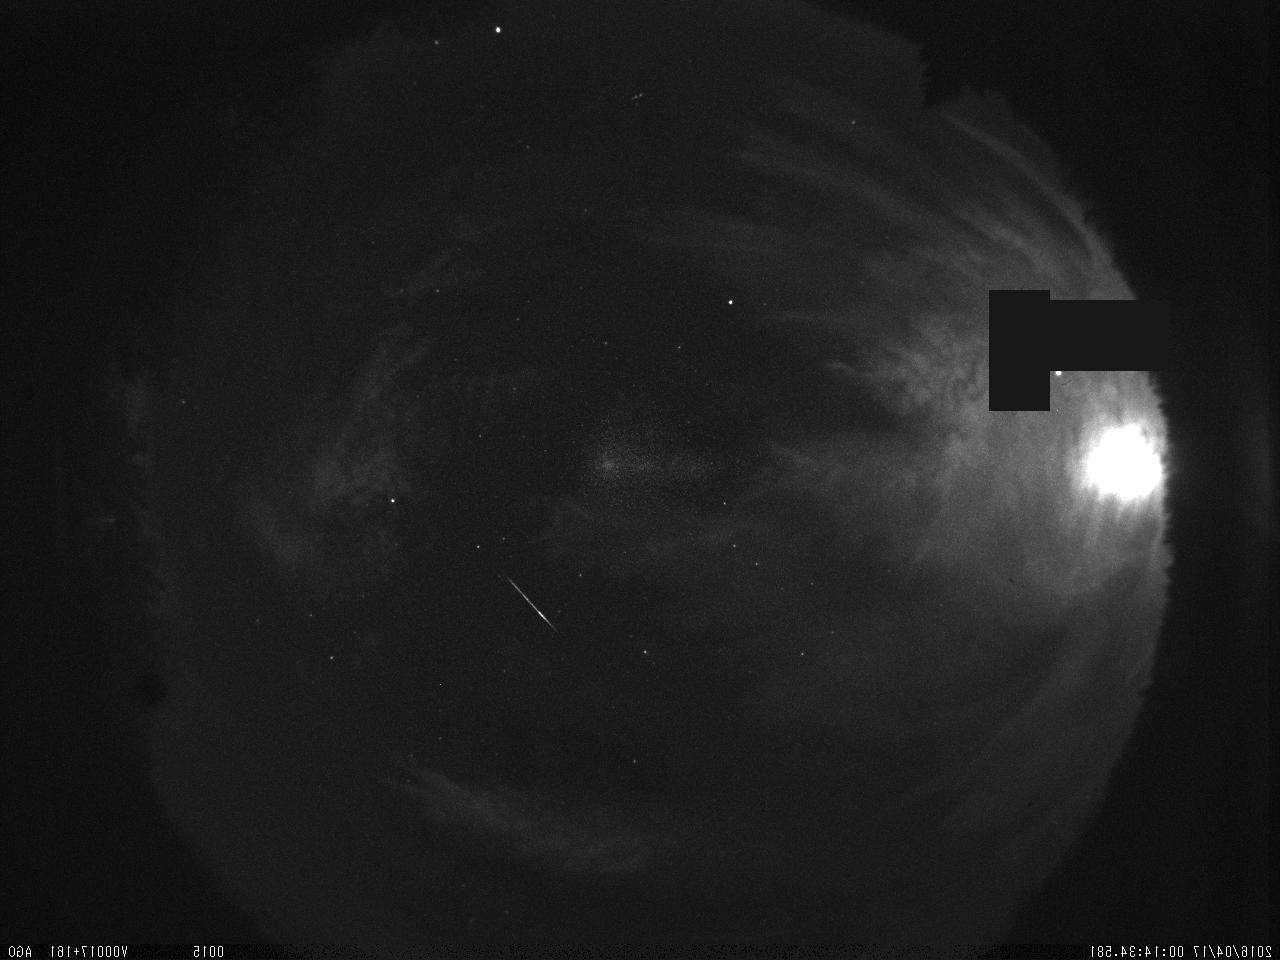meteor: (470, 545, 577, 652)
